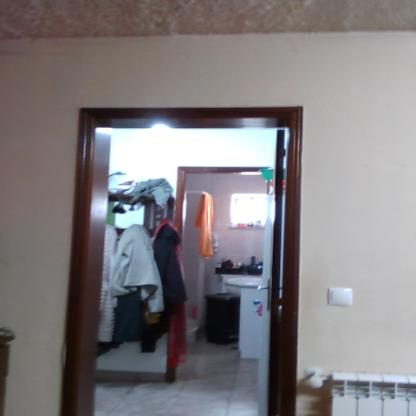open: (63, 102, 296, 416)
